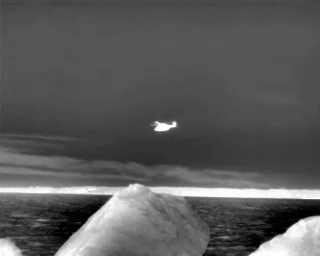HELICOPTER: (146, 115, 182, 138)
